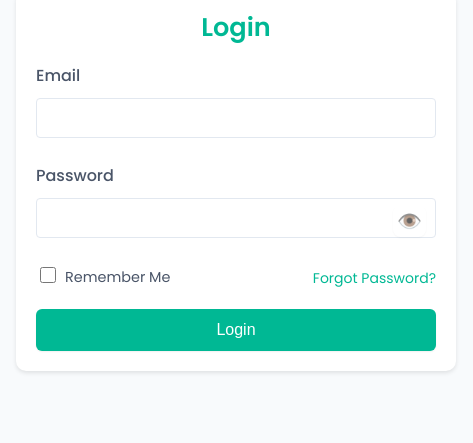
it: shows error on empty submission
Click the button with aria-label "sign in": point(236, 330) [36,309,436,351]
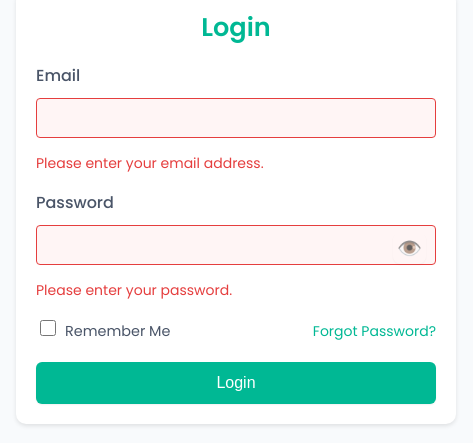
Expected: the text "Please enter your email address." is shown, [36,153,264,173]
